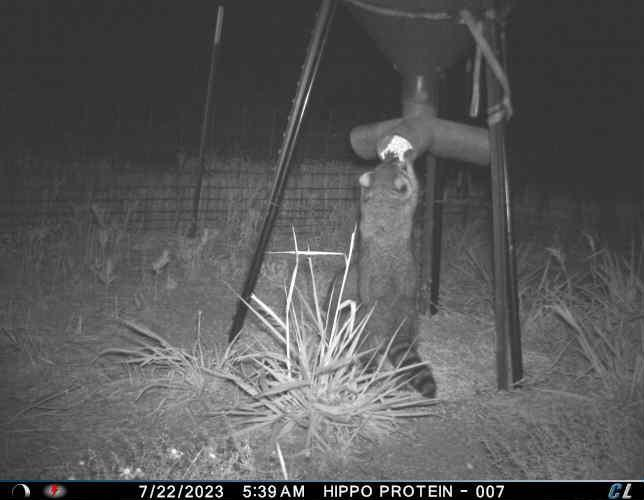Raccoon: (356, 146, 439, 401)
